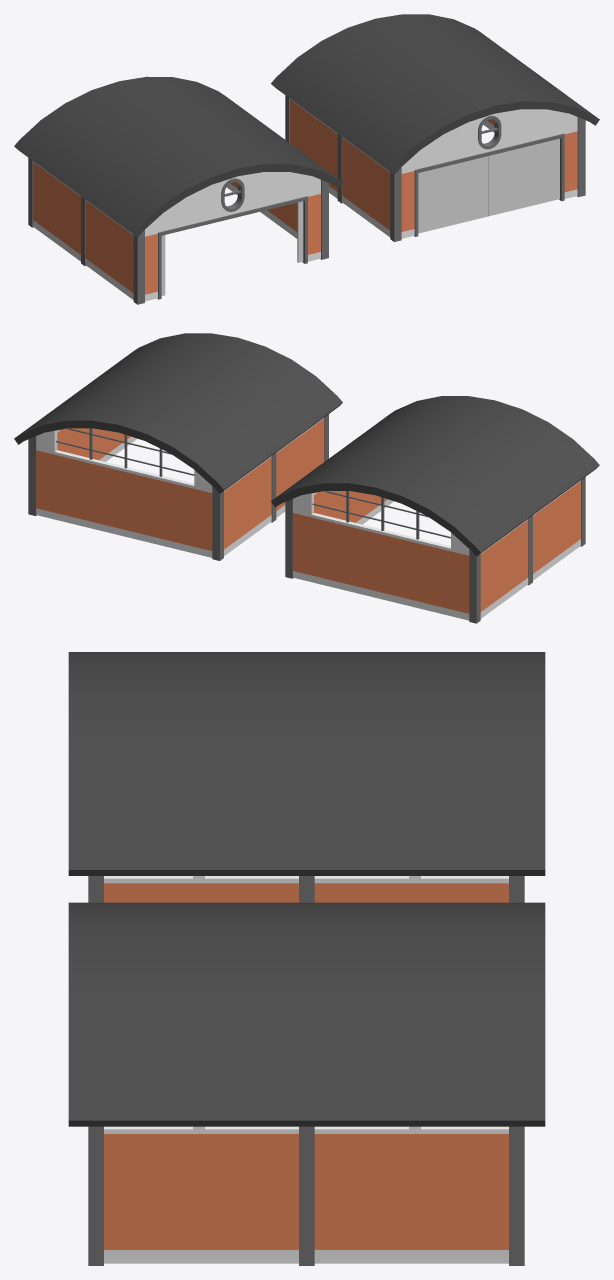
Rendered from PLUME Models.fbx.
3 renders of one model, top to bottom at view 1: azimuth 30°, elevation 25°; view 2: azimuth 150°, elevation 25°; view 3: azimuth 270°, elevation 25°, orthographic. The views are drawn at different scales.
Parts seen in each view (by area): view 1: Hanger, Hanger Open; view 2: Hanger Open, Hanger; view 3: Hanger, Hanger Open.
Part boxes in pixels (x1=…): Hanger: x1=271, y1=14, x2=599, y2=241; Hanger Open: x1=14, y1=76, x2=342, y2=304; Hanger Open: x1=271, y1=396, x2=599, y2=623; Hanger: x1=14, y1=333, x2=342, y2=560; Hanger: x1=68, y1=902, x2=545, y2=1265; Hanger Open: x1=68, y1=652, x2=545, y2=902.
Size of the model in its own units: 6364 by 1519 by 2814.
